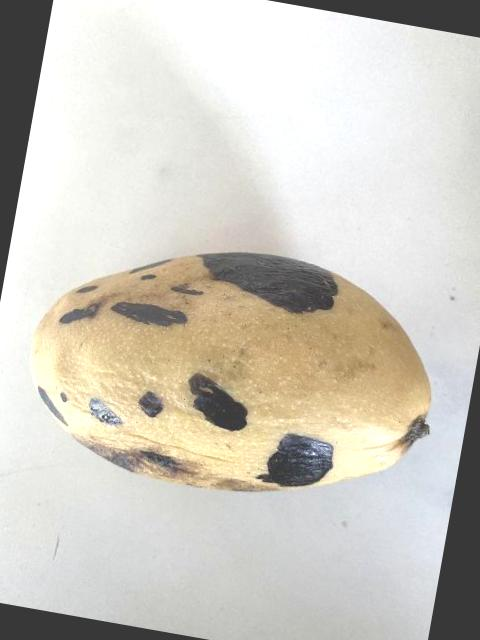Mango Overripe: (0, 194, 473, 560)
